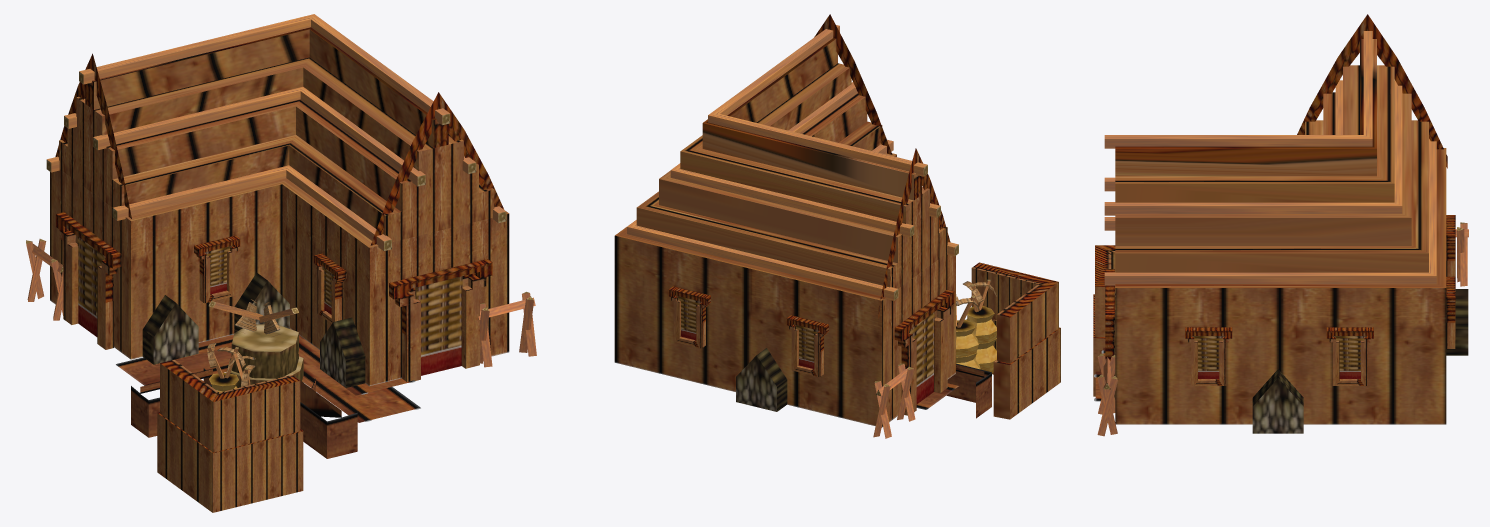
Rendered from storehouse.dae.
The picture shows the model from 3 angles, left to right: view 1: azimuth 30°, elevation 25°; view 2: azimuth 150°, elevation 25°; view 3: azimuth 270°, elevation 25°; orthographic projection. The views are drawn at different scales.
Parts seen in each view (by area): view 1: storehouse; view 2: storehouse; view 3: storehouse.
Part boxes in pixels (x1,y1,x2,y2): storehouse: (26, 14, 536, 512); storehouse: (614, 14, 1060, 438); storehouse: (1093, 14, 1468, 436).
Bounding box in the file's own units: 12.67 × 12.72 × 12.64.
